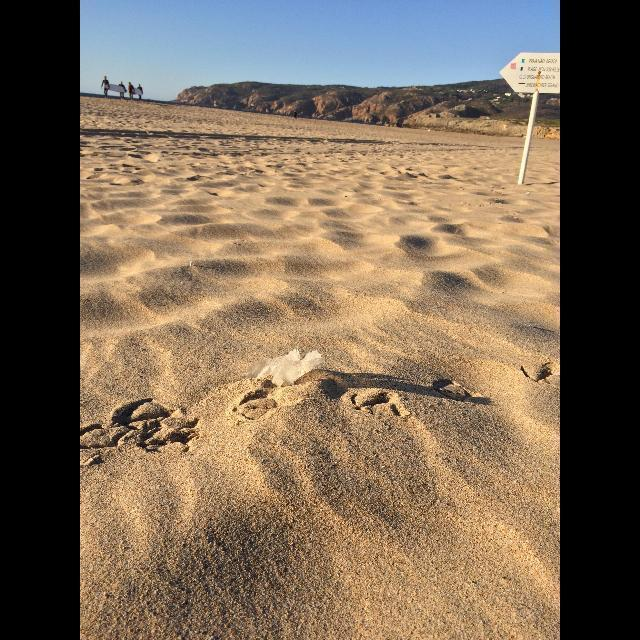Plastic: (246, 348, 324, 388)
